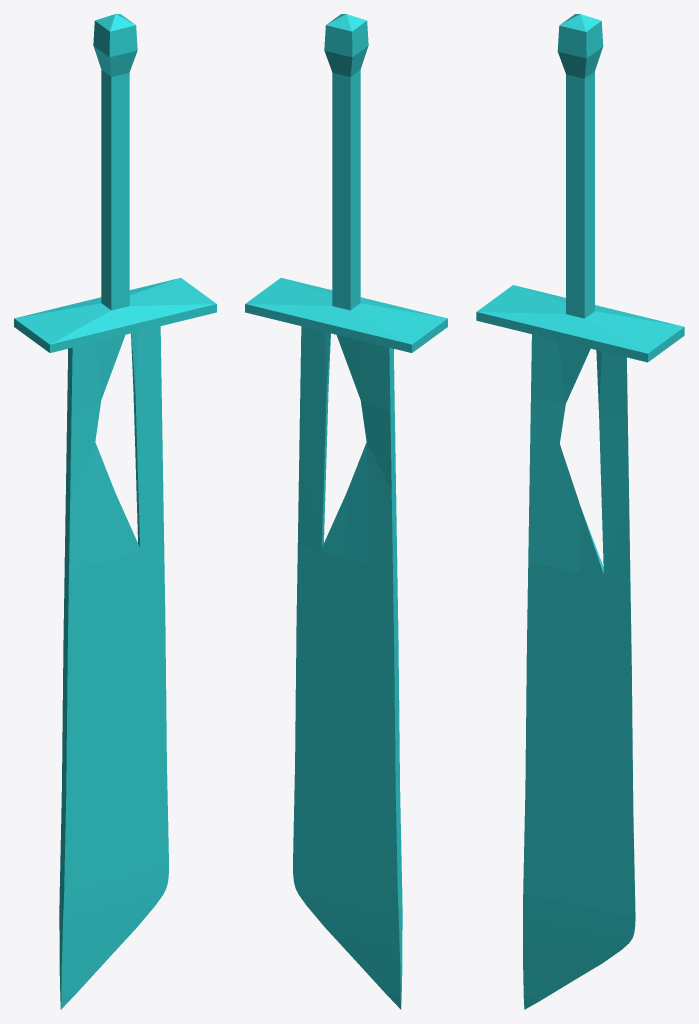
Rendered from sword2Transparency test2.gltf.
The picture shows the model from 3 angles, left to right: view 1: azimuth 30°, elevation 25°; view 2: azimuth 150°, elevation 25°; view 3: azimuth 330°, elevation 25°; orthographic projection. The views are drawn at different scales.
Parts seen in each view (by area): view 1: Cube; view 2: Cube; view 3: Cube.
Boxes of the visible parts, x1=… form: Cube: x1=14, y1=14, x2=216, y2=1009; Cube: x1=245, y1=14, x2=447, y2=1009; Cube: x1=476, y1=14, x2=684, y2=1009.
Size of the model in its own units: 2.31 by 12.97 by 0.8563.
